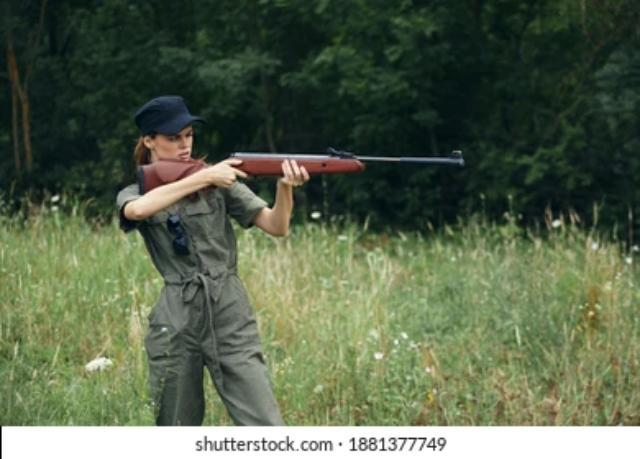other: (116, 103, 276, 414)
